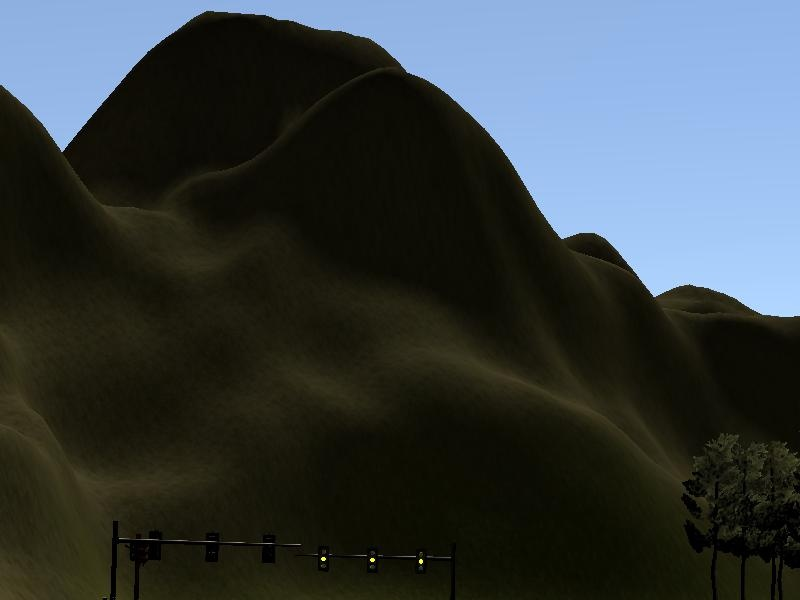YELLOW: (415, 546, 427, 572), (364, 545, 376, 571), (316, 544, 328, 570)
